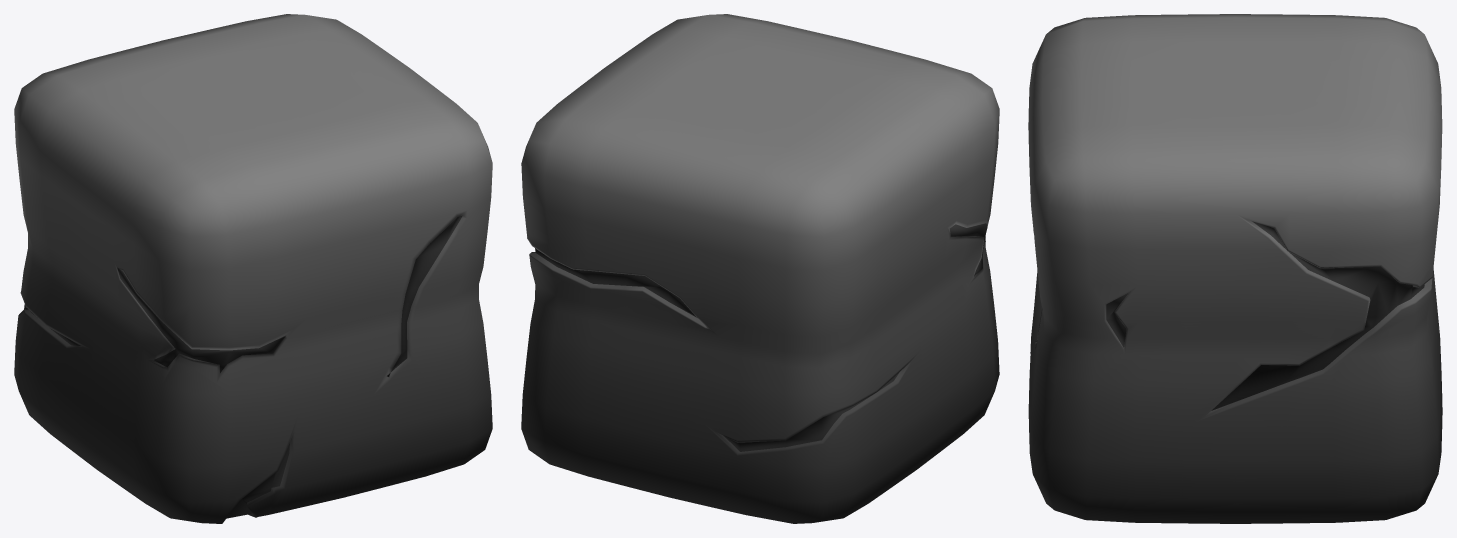
Rendered from TileRock.fbx.
The picture shows the model from 3 angles, left to right: view 1: azimuth 30°, elevation 25°; view 2: azimuth 150°, elevation 25°; view 3: azimuth 270°, elevation 25°; orthographic projection. The views are drawn at different scales.
Parts seen in each view (by area): view 1: TileRock; view 2: TileRock; view 3: TileRock.
Boxes of the visible parts, bbox=[...] form: TileRock: bbox=[14, 14, 492, 523]; TileRock: bbox=[521, 14, 999, 523]; TileRock: bbox=[1028, 14, 1442, 523].
Size of the model in its own units: 2 by 2 by 2.
